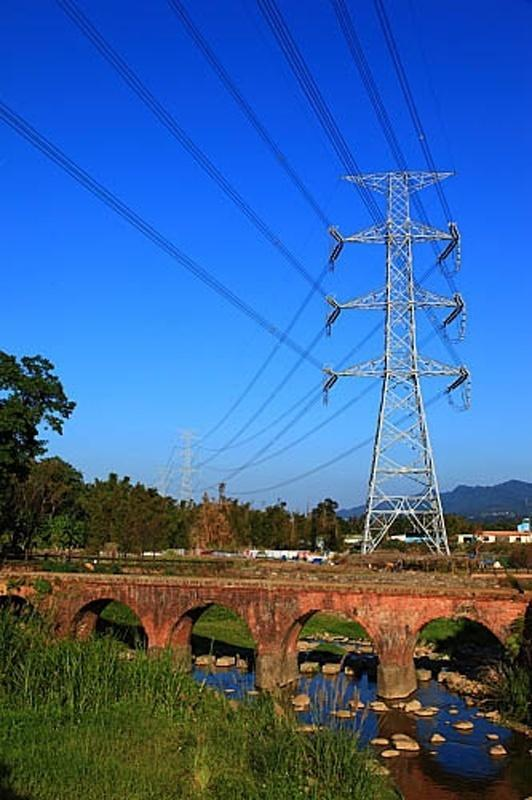power_tower: (323, 163, 468, 573), (176, 428, 200, 509)
